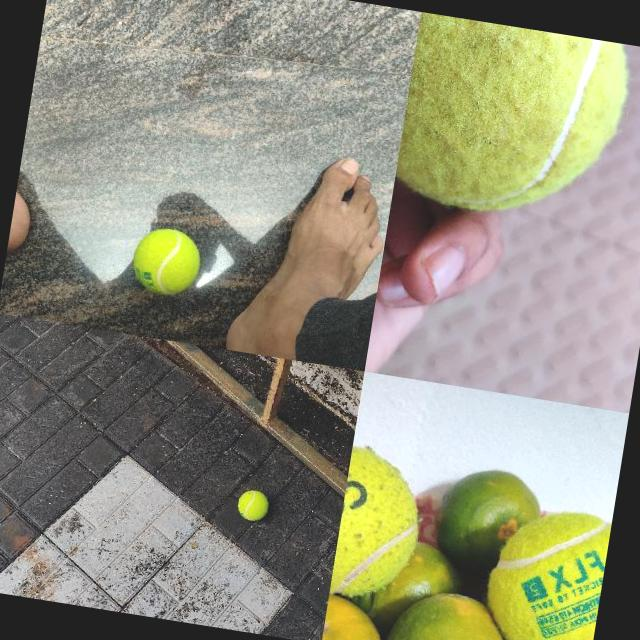Tennis Ball: (392, 12, 638, 235), (331, 446, 432, 606), (512, 505, 613, 640), (129, 223, 205, 300), (236, 488, 271, 523)
